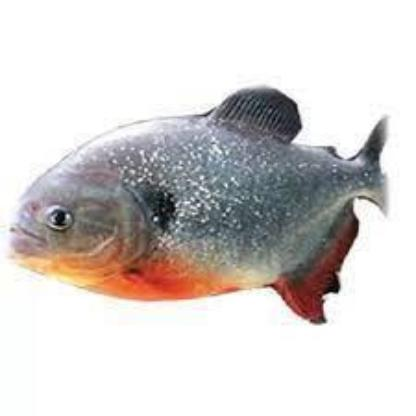ikan-pacu: (3, 94, 390, 302)
